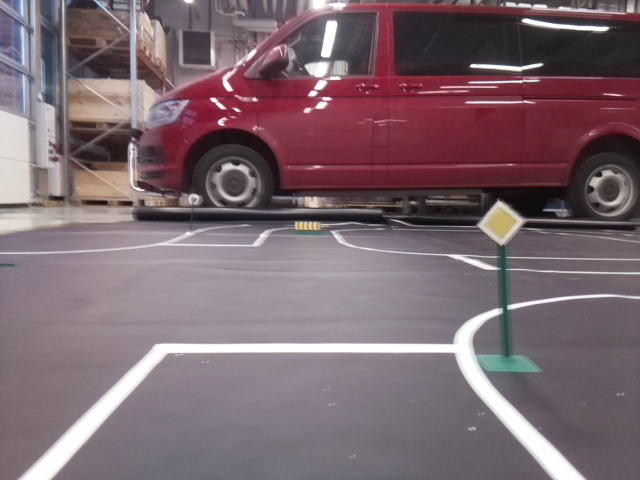Priority: (477, 198, 524, 244)
